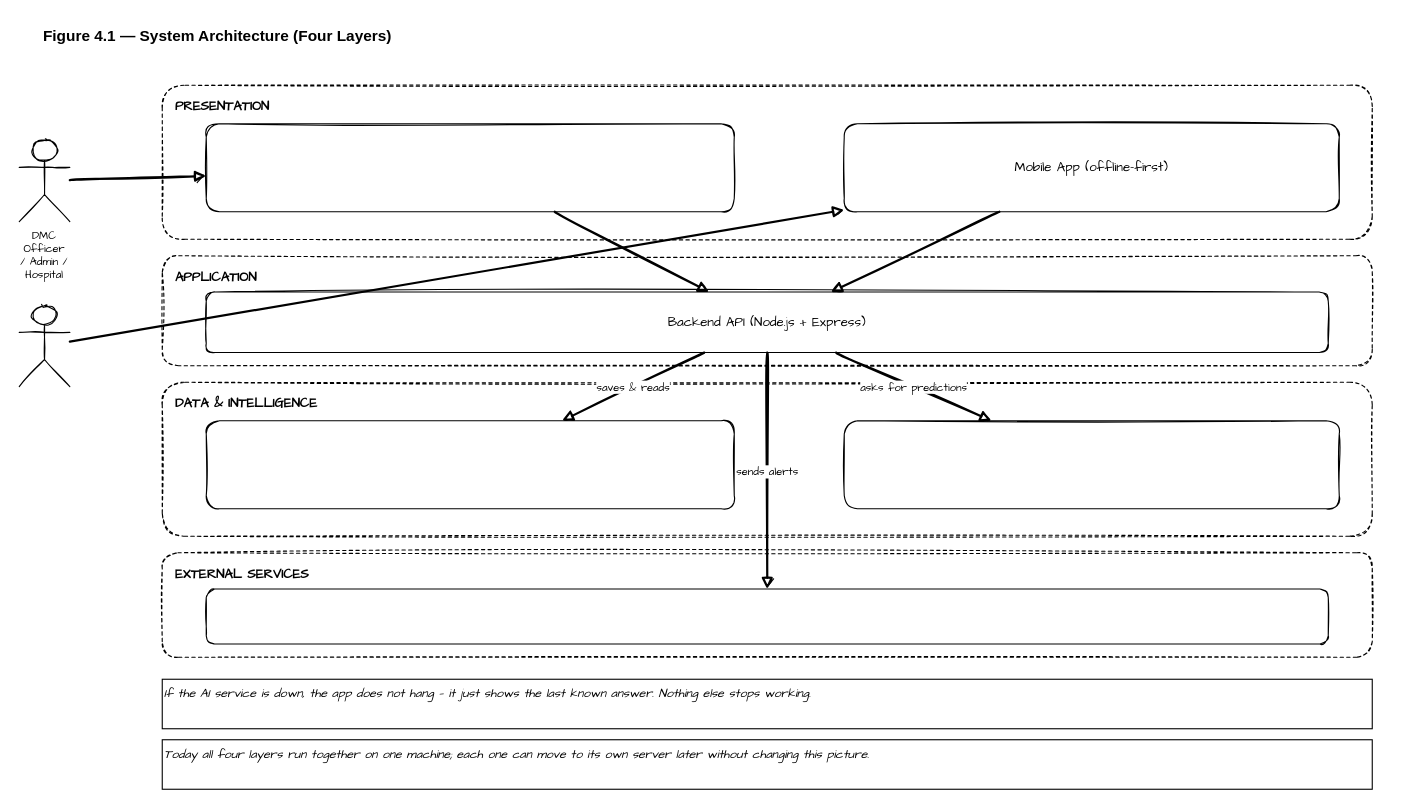
Some shapes in this 1403 by 809 pixel diagram are drawn without their labels. Here are the shapes that lost their labels. From the top down, the centre of each, then its label:
At [469,167]: "Web Dashboard (React)".
At [44,345]: "Citizen / Volunteer".
At [469,464]: "Database (PostgreSQL)".
At [1091,464]: "AI / ML Service (Python)".
At [766,616]: "SMS · e-mail · push · Telegram weather data · maps · Google sign-in".
